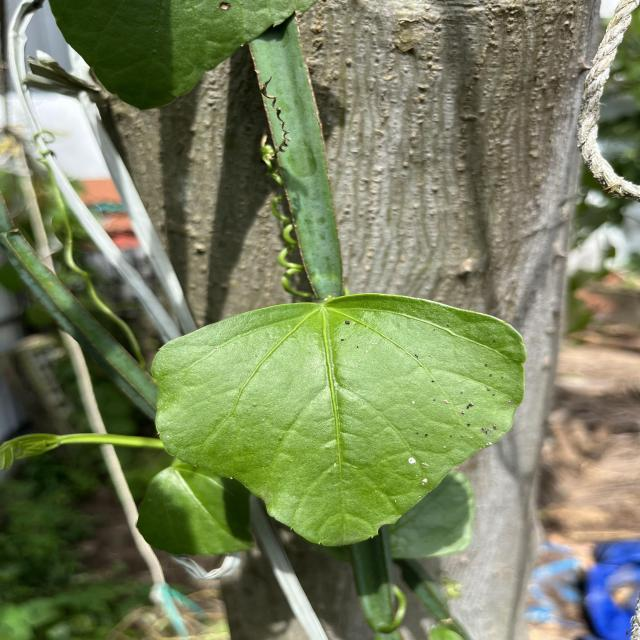Cissus quadrangularis: (146, 291, 528, 549)
